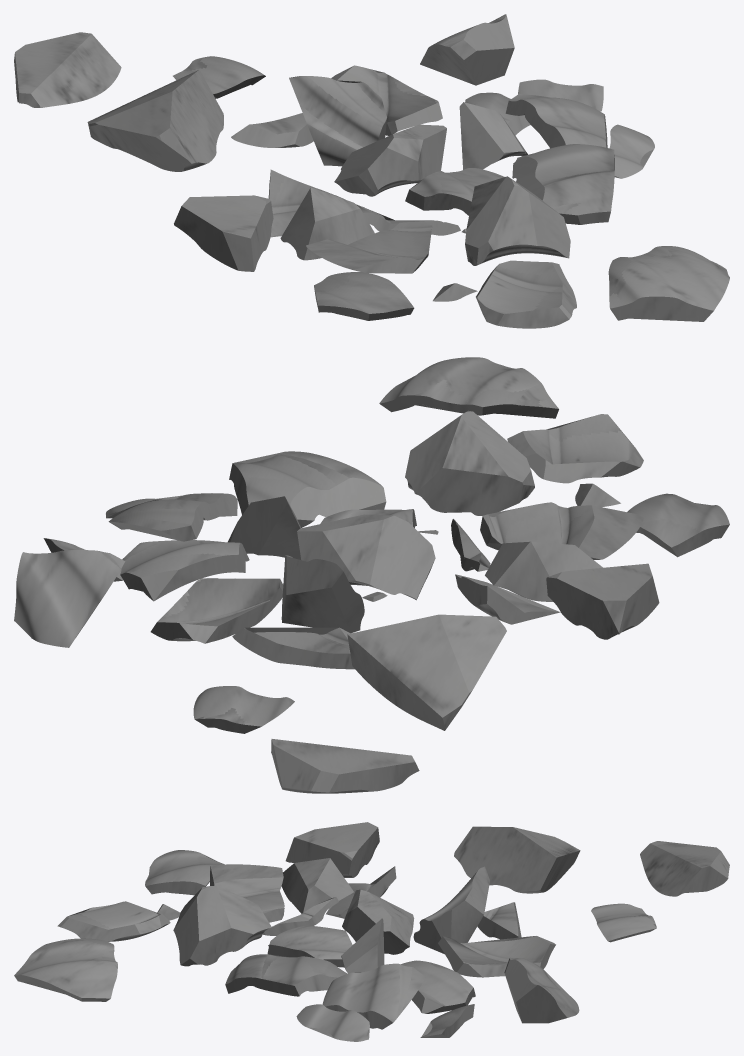
Rendered from BrokenVase.fbx.
3 renders of one model, top to bottom at view 1: azimuth 30°, elevation 25°; view 2: azimuth 150°, elevation 25°; view 3: azimuth 270°, elevation 25°, orthographic. The views are drawn at different scales.
Parts seen in each view (by area): view 1: Cube_cell.050; view 2: Cube_cell.050; view 3: Cube_cell.050.
Part boxes in pixels (x1,y1,x2,y2): Cube_cell.050: (14,14,729,328); Cube_cell.050: (14,357,729,793); Cube_cell.050: (14,822,729,1041).
Size of the model in its own units: 1264 by 200 by 2014.
1 material, 1 textured.
